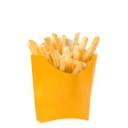frenchfries: (25, 30, 100, 74)
